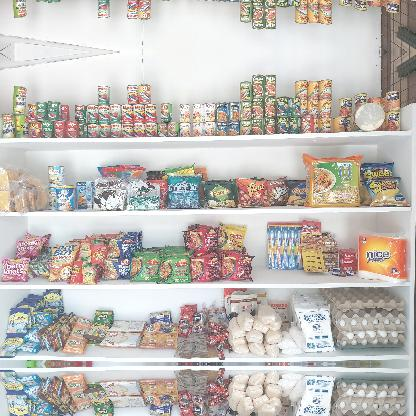Lady-s-Choice: (350, 102, 384, 132)
